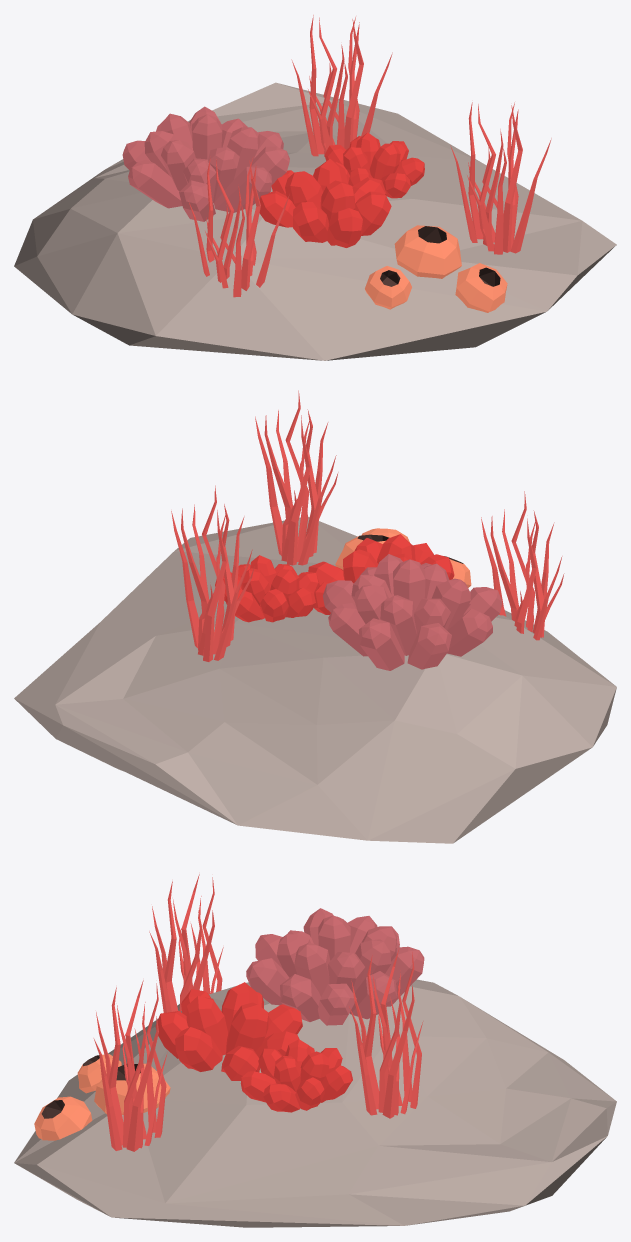
Rendered from MiniCoral-4.glb.
The picture shows the model from 3 angles, top to bottom: view 1: azimuth 30°, elevation 25°; view 2: azimuth 150°, elevation 25°; view 3: azimuth 270°, elevation 25°; orthographic projection. The views are drawn at different scales.
Visible parts, largest first — view 1: Coralls_003; view 2: Coralls_003; view 3: Coralls_003.
Boxes of the visible parts, x1,y1,x2,y2 form: Coralls_003: [14, 15, 616, 360]; Coralls_003: [14, 390, 616, 843]; Coralls_003: [14, 874, 616, 1227].
Bounding box in the file's own units: 1.86 × 0.9663 × 1.96.
Materials: 2 (2 with a texture image).
